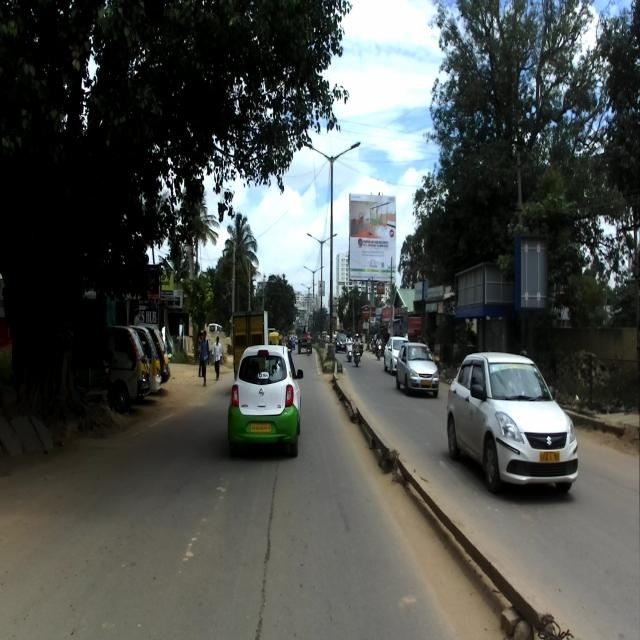car: (446, 352, 579, 491), (228, 342, 305, 459), (393, 338, 440, 398)
